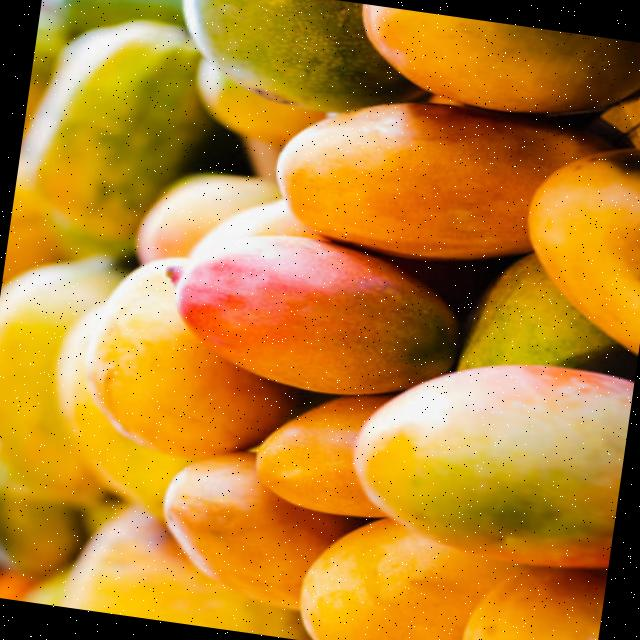mango: (354, 364, 632, 566), (277, 102, 608, 259), (166, 232, 459, 394), (87, 257, 298, 457), (24, 20, 211, 240), (163, 451, 365, 609), (362, 3, 640, 111), (301, 518, 522, 640), (184, 0, 421, 112), (529, 148, 640, 352), (256, 394, 390, 517), (136, 173, 281, 262), (465, 567, 606, 640)
